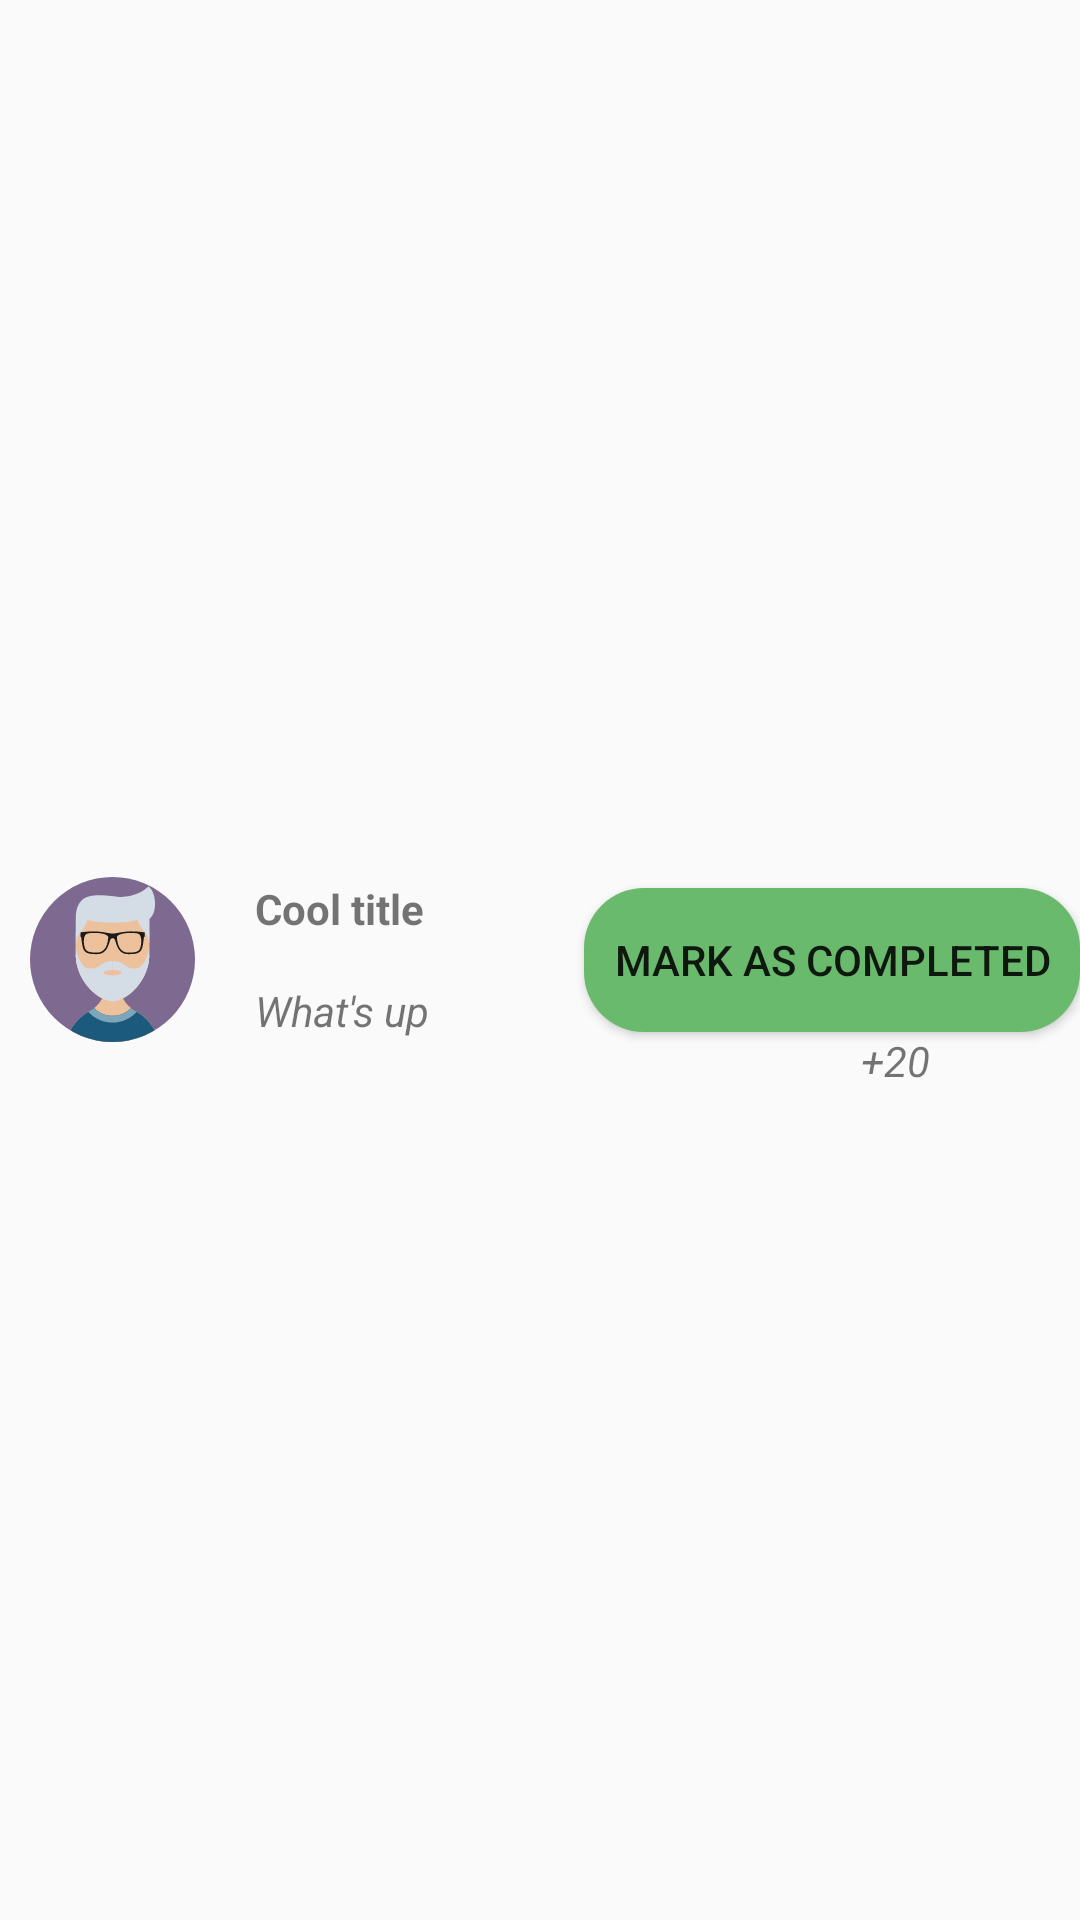

Icons on this 1080w x 1920h Android screen, each with its box as (x1,y1,x2,y2):
avatar: (30,877,195,1042)
